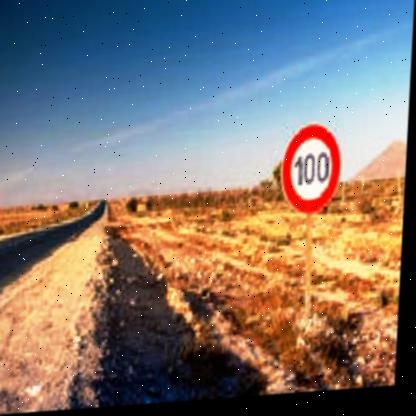Speed Limit -100-: (278, 125, 348, 220)
